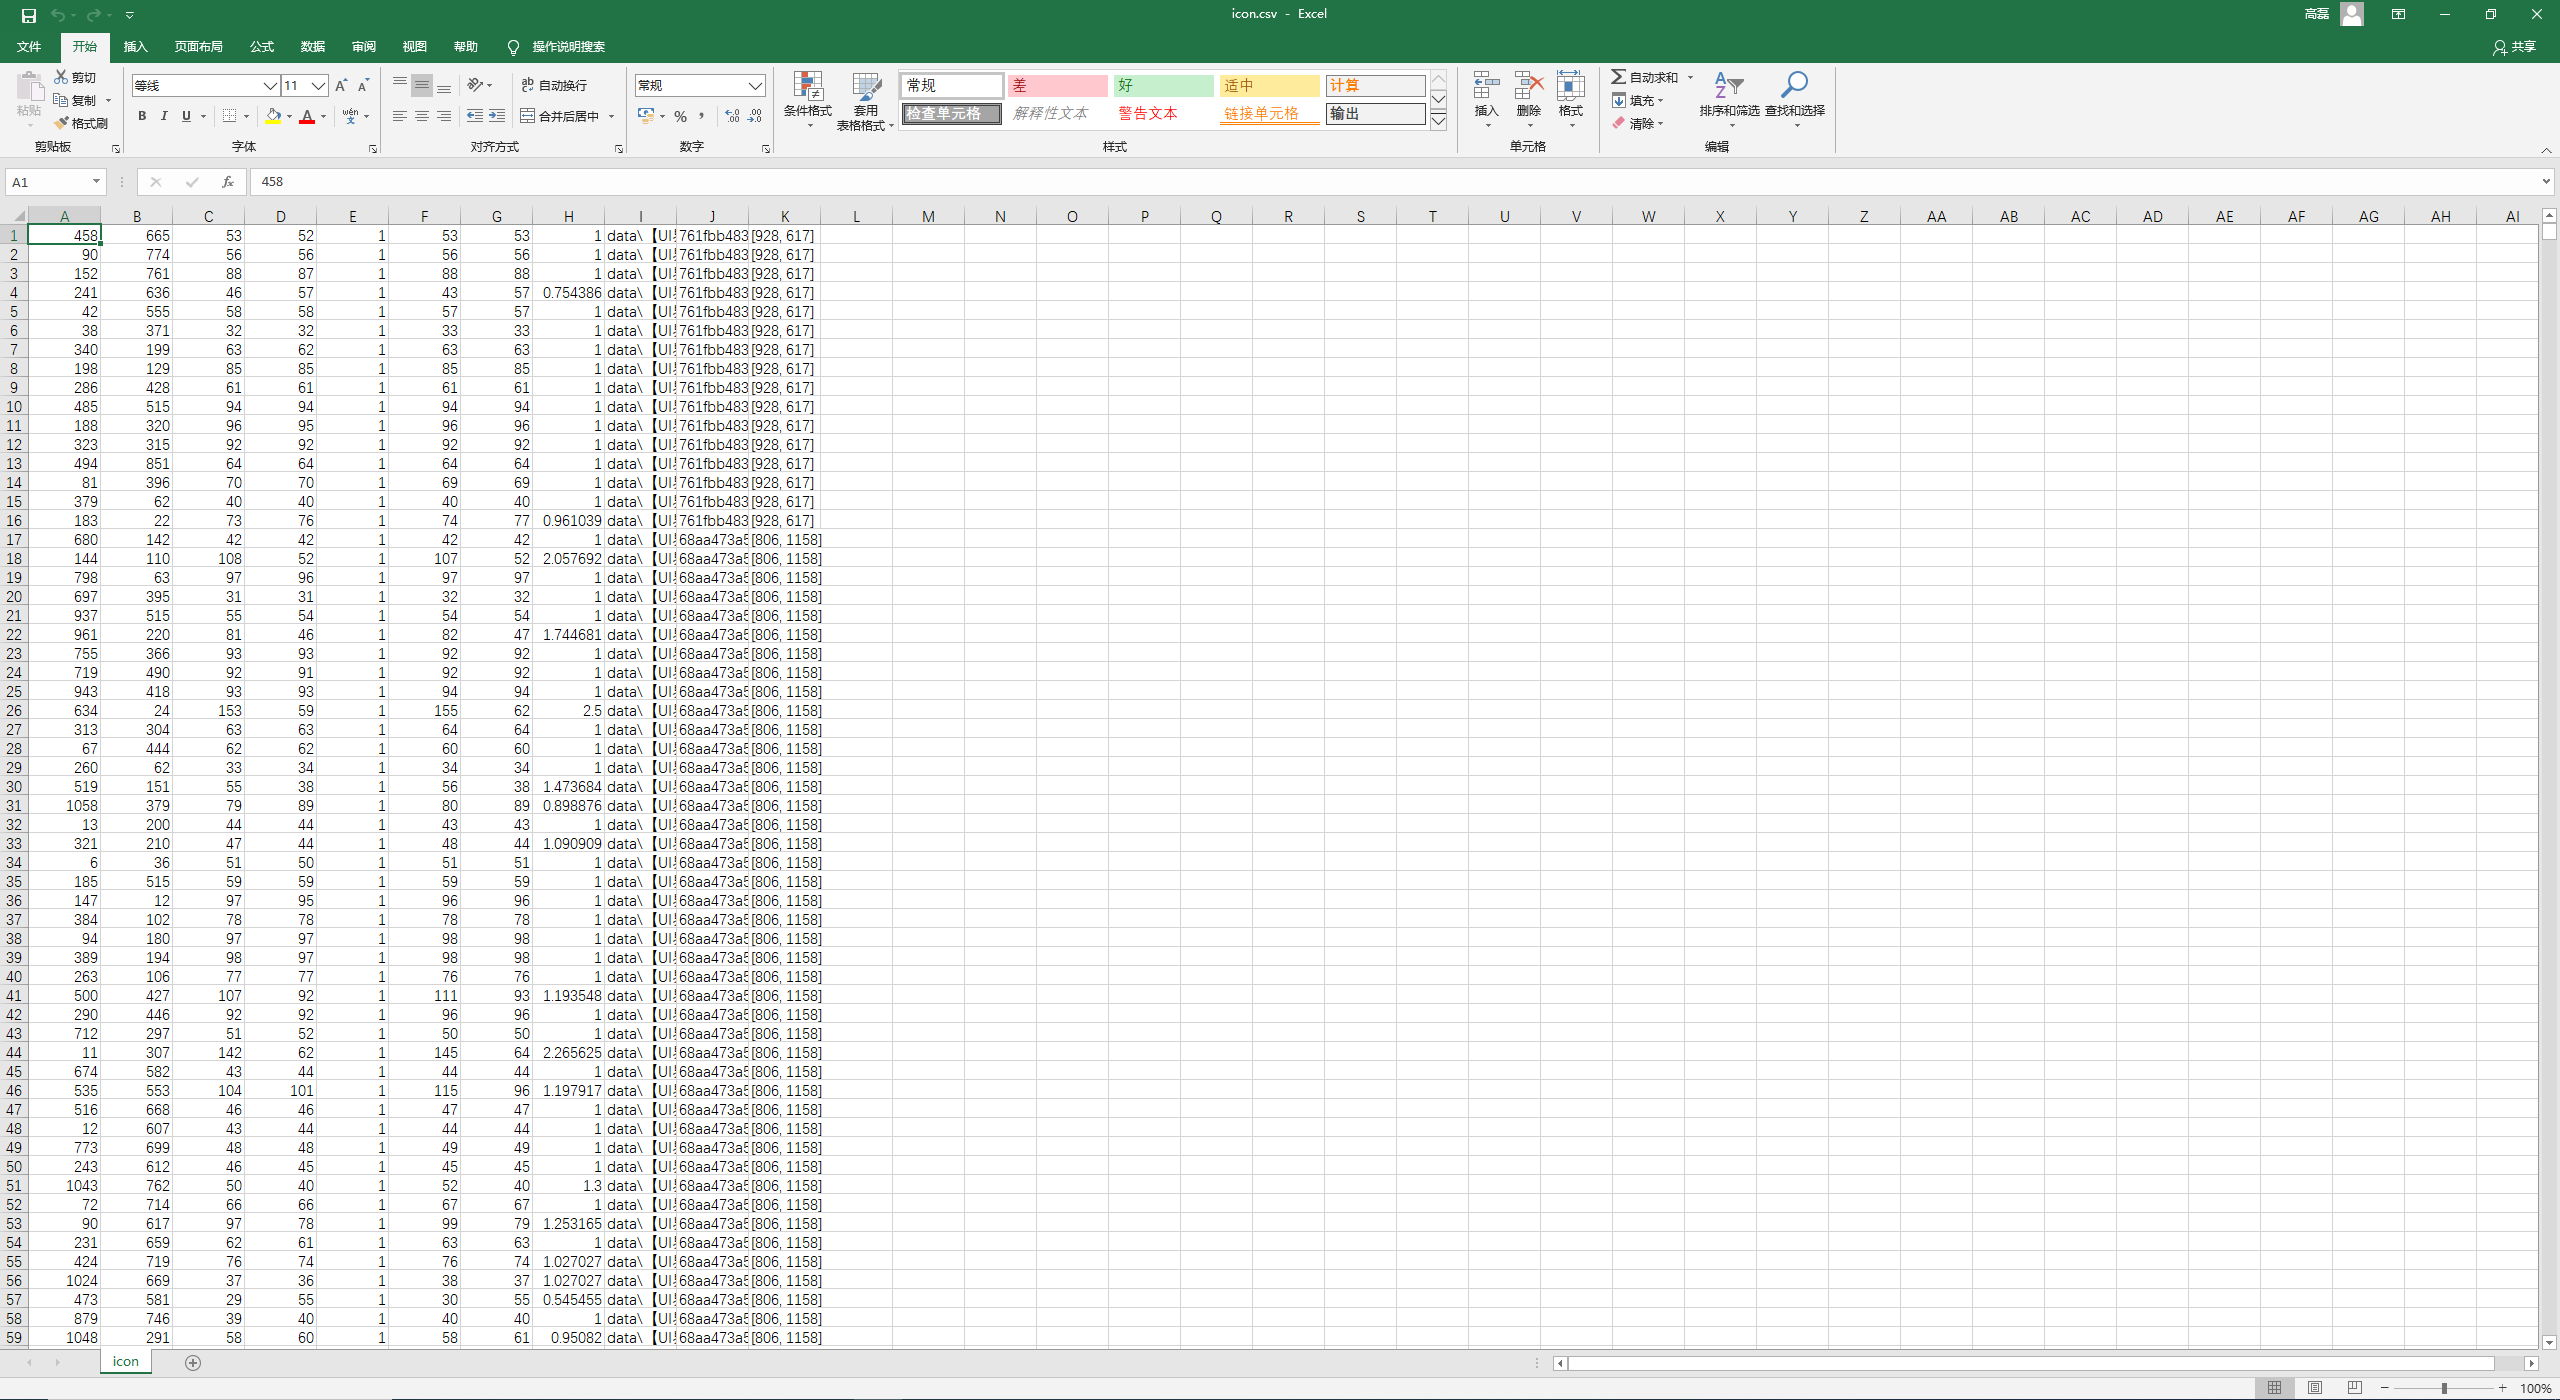character: (1233, 3, 1331, 24), (1221, 103, 1300, 121), (908, 105, 984, 122), (1014, 105, 1088, 121), (1119, 103, 1177, 122), (533, 40, 603, 55), (540, 109, 598, 124), (174, 40, 226, 55), (1696, 103, 1762, 116), (838, 117, 883, 134), (1764, 103, 1827, 116), (1098, 136, 1133, 155), (541, 79, 588, 93), (1631, 71, 1677, 84), (1327, 76, 1362, 93), (472, 140, 521, 152), (784, 105, 831, 117), (1510, 136, 1546, 152), (2519, 1381, 2555, 1397), (74, 116, 109, 131), (1222, 78, 1257, 93), (109, 1355, 141, 1371), (1331, 103, 1360, 121), (5, 172, 34, 190), (247, 40, 278, 55), (255, 174, 295, 186), (36, 140, 71, 153), (908, 76, 938, 91), (1703, 138, 1733, 153), (638, 76, 664, 93), (1472, 103, 1500, 117), (17, 40, 45, 53), (300, 40, 328, 53), (72, 40, 98, 53), (122, 40, 148, 53), (352, 40, 378, 53), (402, 40, 428, 53), (14, 105, 43, 117), (453, 40, 481, 52), (231, 141, 259, 153), (852, 105, 879, 117), (1558, 103, 1586, 116), (2301, 9, 2332, 19), (71, 93, 97, 105), (1519, 102, 1541, 116), (2513, 38, 2536, 52), (1012, 78, 1029, 95), (1117, 76, 1134, 93), (1631, 116, 1652, 129), (681, 140, 703, 152), (1631, 93, 1653, 105), (72, 72, 97, 83), (676, 107, 688, 122), (696, 110, 705, 121)
icon: (790, 69, 827, 102), (1553, 67, 1588, 102), (1510, 67, 1546, 100), (1777, 67, 1812, 100), (850, 71, 883, 103), (16, 71, 47, 102), (1470, 67, 1502, 98), (409, 72, 434, 98), (2296, 1379, 2331, 1398), (2258, 1378, 2289, 1398), (2338, 1378, 2369, 1398), (2338, 2, 2363, 26), (215, 171, 240, 193), (464, 72, 486, 97), (1712, 71, 1733, 97), (745, 72, 765, 97), (305, 76, 328, 97), (1724, 74, 1745, 97), (1427, 66, 1446, 90), (2526, 2, 2546, 22), (183, 1352, 203, 1372), (259, 76, 281, 95), (17, 5, 38, 24), (183, 172, 203, 191), (517, 76, 538, 95), (486, 105, 507, 124), (464, 105, 484, 124), (2481, 3, 2501, 22), (2388, 3, 2408, 22), (2434, 3, 2455, 22), (1433, 114, 1448, 138), (353, 76, 372, 95), (52, 67, 71, 86), (264, 105, 283, 124), (390, 105, 409, 124), (434, 105, 453, 124), (638, 105, 657, 124), (434, 79, 453, 98), (1608, 67, 1627, 86), (1608, 90, 1627, 109), (2489, 38, 2508, 57), (147, 172, 164, 193), (517, 105, 538, 122), (412, 105, 433, 122), (717, 109, 741, 122), (221, 105, 238, 124), (390, 72, 409, 90), (333, 76, 350, 95), (746, 105, 764, 124), (2539, 171, 2557, 190), (52, 91, 69, 109), (84, 7, 102, 24), (178, 107, 195, 124), (298, 107, 315, 124), (48, 7, 66, 24), (155, 105, 172, 122), (52, 114, 71, 129), (503, 40, 522, 55), (340, 109, 359, 124), (1552, 1355, 1570, 1371), (90, 171, 103, 191), (2376, 1379, 2391, 1397), (1433, 91, 1448, 109), (2434, 1381, 2451, 1397), (121, 7, 136, 22), (134, 107, 150, 122), (1610, 114, 1626, 129), (2524, 1355, 2539, 1371), (2494, 1379, 2510, 1395), (2543, 205, 2557, 221), (2543, 1334, 2557, 1350), (240, 109, 253, 122), (102, 91, 116, 105), (197, 109, 210, 122), (603, 109, 617, 122), (803, 117, 817, 131), (2539, 143, 2553, 157), (317, 109, 329, 124), (22, 117, 36, 129), (614, 141, 626, 155), (1524, 117, 1538, 129), (1789, 117, 1803, 129), (1726, 117, 1739, 129), (1683, 71, 1696, 83), (367, 141, 379, 153), (110, 141, 122, 153), (360, 110, 372, 122), (760, 141, 772, 153), (1653, 117, 1665, 129), (22, 1355, 34, 1367), (67, 9, 78, 22), (105, 9, 116, 22), (657, 109, 667, 122), (884, 121, 898, 131), (284, 110, 295, 122), (1655, 95, 1665, 107), (1483, 119, 1495, 129), (1565, 119, 1577, 129), (484, 78, 493, 91), (52, 1359, 66, 1367)
